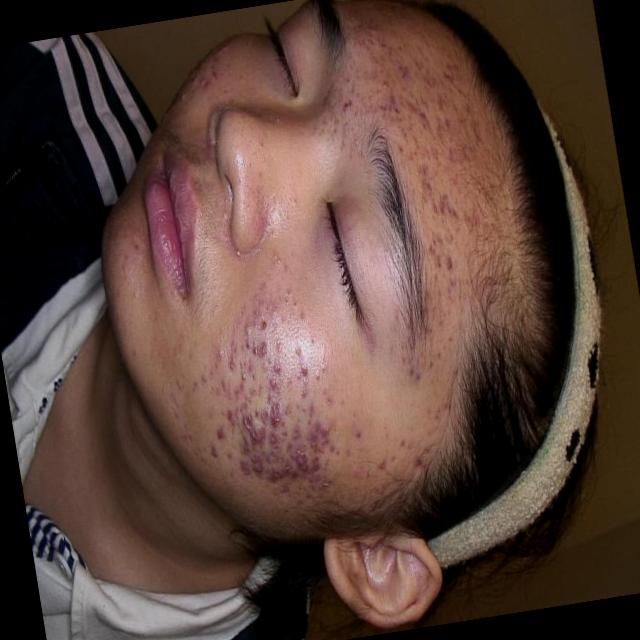acne: (248, 279, 284, 322), (234, 353, 262, 402), (282, 281, 311, 328), (311, 408, 340, 449), (408, 96, 437, 136), (312, 466, 338, 510), (248, 318, 278, 356), (234, 452, 262, 490), (437, 188, 463, 228), (205, 408, 233, 444), (284, 446, 308, 486), (422, 228, 446, 268), (376, 91, 404, 124), (300, 391, 324, 429), (336, 86, 361, 122), (438, 59, 466, 91), (264, 427, 290, 461), (282, 432, 308, 466), (228, 421, 256, 452), (369, 454, 394, 488), (392, 57, 417, 91), (414, 436, 436, 474), (430, 86, 454, 120), (197, 364, 221, 398), (262, 364, 283, 402), (197, 435, 220, 469), (236, 312, 256, 351), (214, 392, 238, 424), (251, 416, 275, 448), (280, 412, 310, 437), (416, 174, 438, 208), (456, 139, 478, 172), (441, 248, 462, 281), (404, 358, 426, 388), (348, 128, 368, 160), (263, 394, 285, 422), (420, 65, 442, 93), (264, 461, 285, 490), (443, 139, 462, 171), (185, 64, 202, 99), (320, 383, 340, 412), (305, 422, 324, 452), (289, 338, 309, 366), (248, 404, 270, 429), (349, 420, 368, 448), (197, 73, 216, 101), (210, 41, 236, 61), (218, 370, 234, 400), (271, 250, 291, 274), (347, 461, 367, 484), (378, 72, 397, 96), (268, 348, 284, 374), (312, 364, 328, 388), (230, 241, 246, 265), (176, 86, 192, 110), (236, 401, 251, 425), (244, 412, 256, 438), (308, 444, 320, 468), (298, 362, 308, 388), (219, 345, 231, 359)
